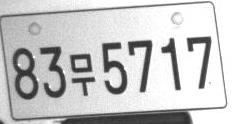1: (159, 37, 184, 91)
3: (40, 45, 67, 98)
5: (101, 40, 128, 94)
7: (128, 40, 154, 93), (186, 36, 212, 89)
8: (11, 46, 39, 100)
무: (69, 52, 95, 97)
